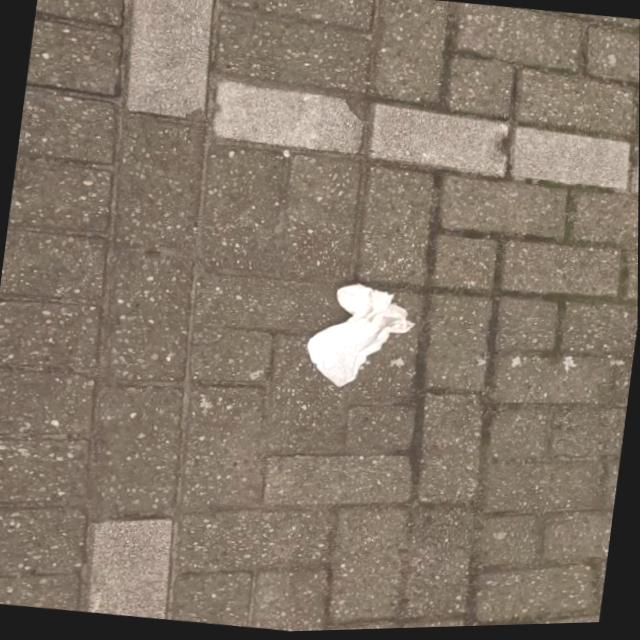Paper: (301, 275, 423, 398)
